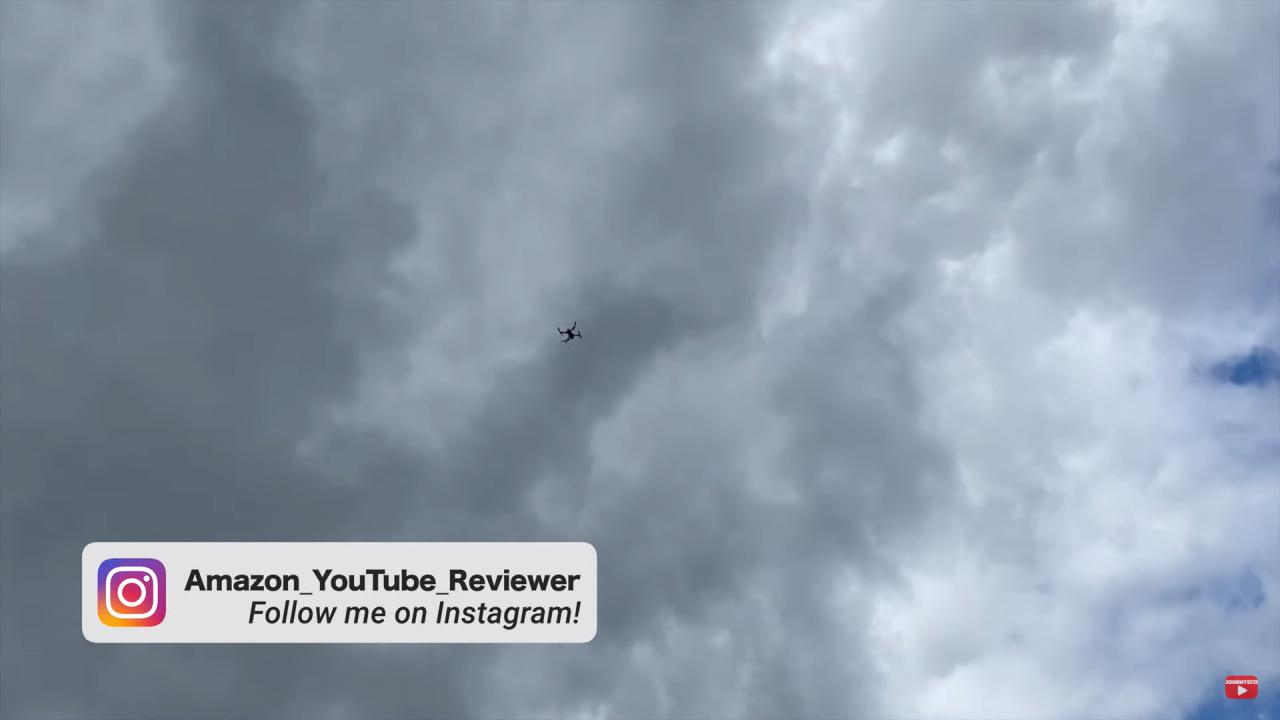Drone: (550, 315, 592, 354)
